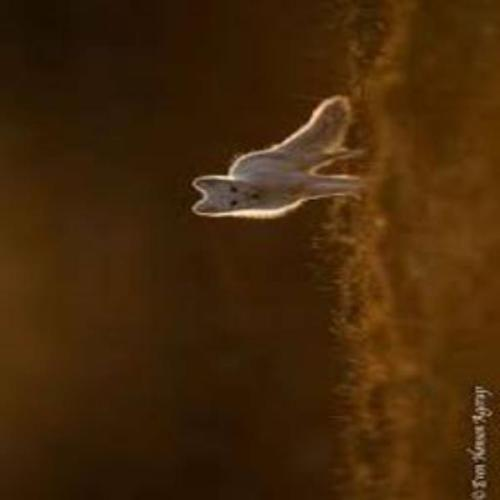arctic_fox-endangered: (192, 94, 368, 217)
